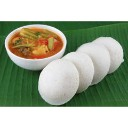idly: (38, 59, 79, 104), (77, 43, 110, 83), (63, 52, 94, 92), (93, 36, 123, 74)
